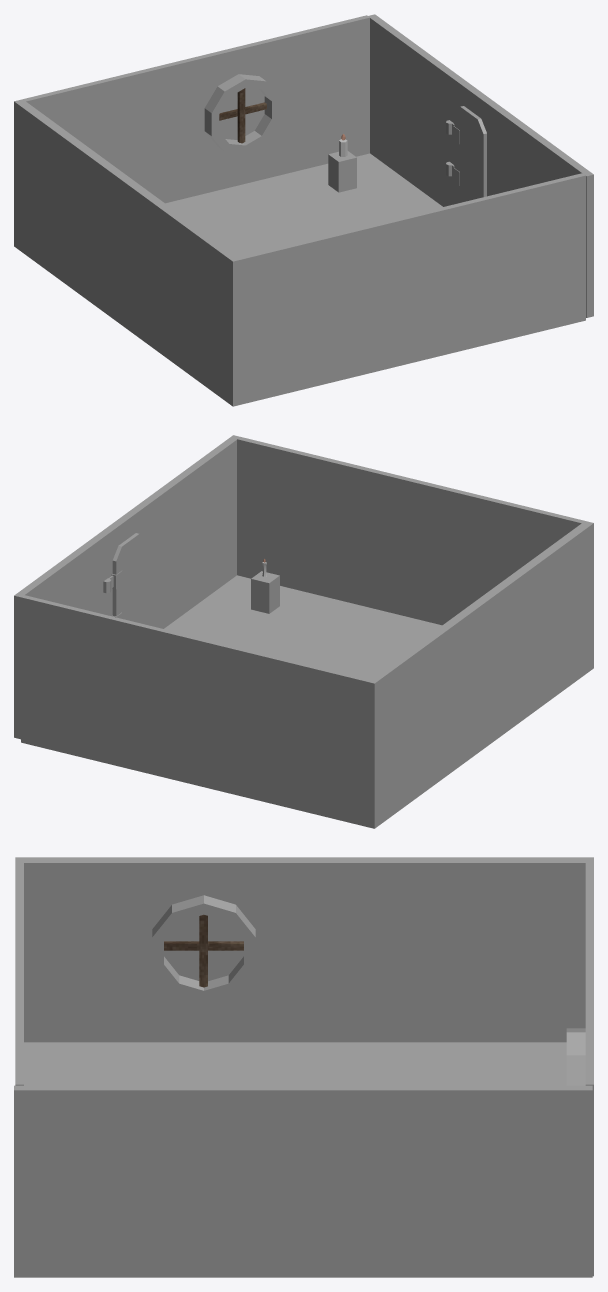
File: xiuxishi.fbx
The picture shows the model from 3 angles, top to bottom: view 1: azimuth 30°, elevation 25°; view 2: azimuth 150°, elevation 25°; view 3: azimuth 270°, elevation 25°; orthographic projection. The views are drawn at different scales.
Visible parts, largest first — view 1: pCube1, 立方体.067, pasted__立方体.073, door:pCube3, pCube2; view 2: pCube1, 立方体.067, door:pCube3, pasted__pCube2; view 3: pCube1, 立方体.067, 立方体.073, pasted__立方体.073.
Part boxes in pixels (x1,y1,x2,y2): pCube1: [14, 15, 585, 406]; 立方体.067: [368, 14, 593, 317]; pasted__立方体.073: [204, 74, 279, 153]; door:pCube3: [446, 106, 486, 203]; pCube2: [328, 151, 356, 192]; pCube1: [21, 437, 593, 828]; 立方体.067: [14, 435, 239, 739]; door:pCube3: [103, 533, 145, 624]; pasted__pCube2: [251, 571, 279, 613]; pCube1: [15, 857, 593, 1276]; 立方体.067: [14, 1085, 592, 1277]; 立方体.073: [152, 895, 255, 1001]; pasted__立方体.073: [566, 1028, 585, 1085].
Bounding box in the file's own units: 19.75 × 7.59 × 20.83.
